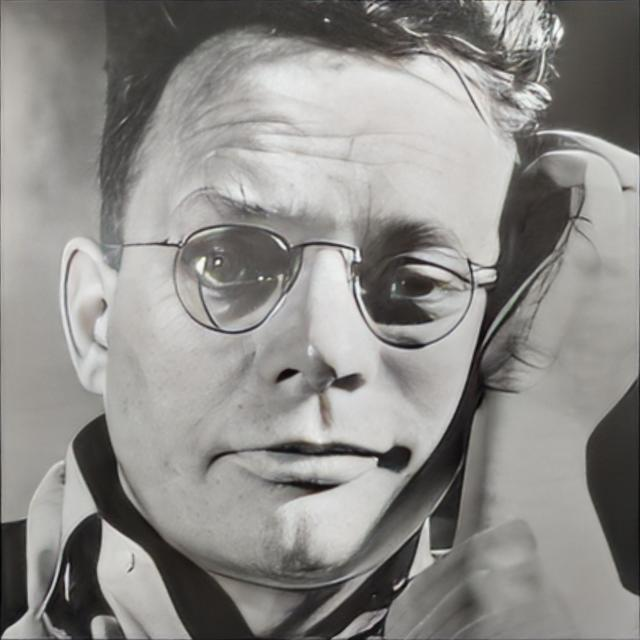fear: (107, 22, 520, 590)
